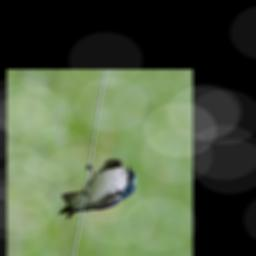Swallow: (57, 140, 139, 243)
